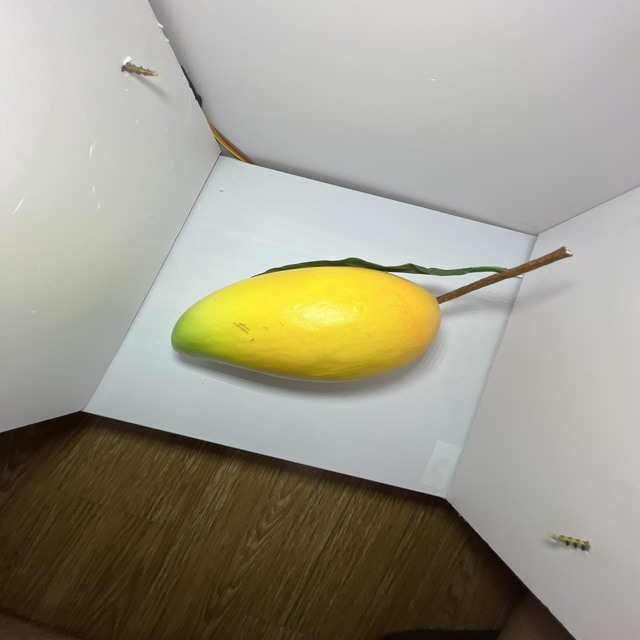Xoai: (164, 260, 447, 388)
